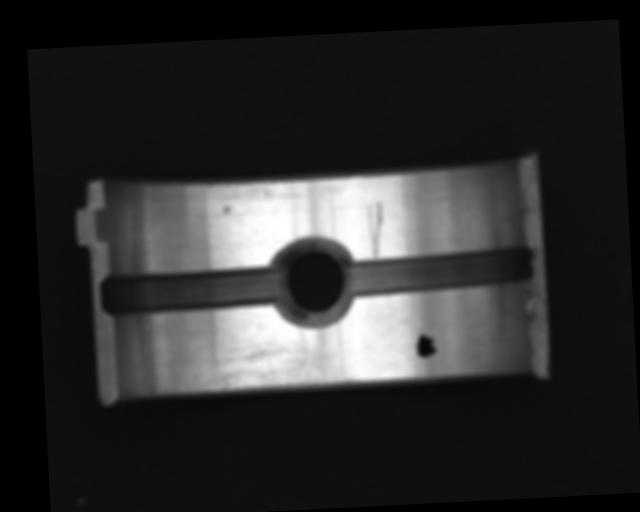blot: (413, 326, 439, 360)
bruise: (222, 204, 232, 214)
gap: (343, 241, 539, 299), (98, 262, 285, 316)
hole: (272, 238, 354, 327)
nick: (365, 200, 387, 260)
scratch: (184, 334, 362, 396)
